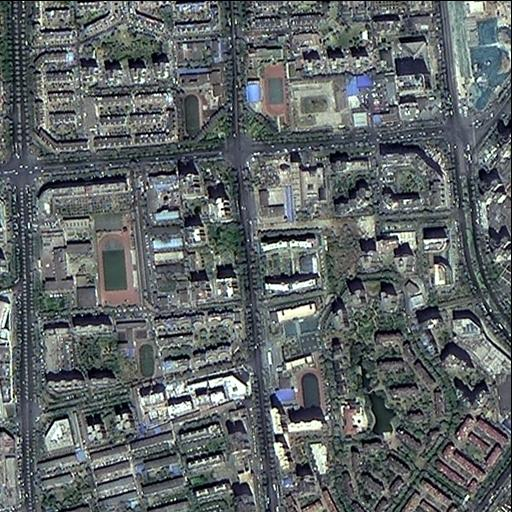school: (35, 215, 142, 311), (265, 296, 322, 416), (240, 44, 289, 139), (179, 69, 231, 148), (113, 316, 159, 390)
